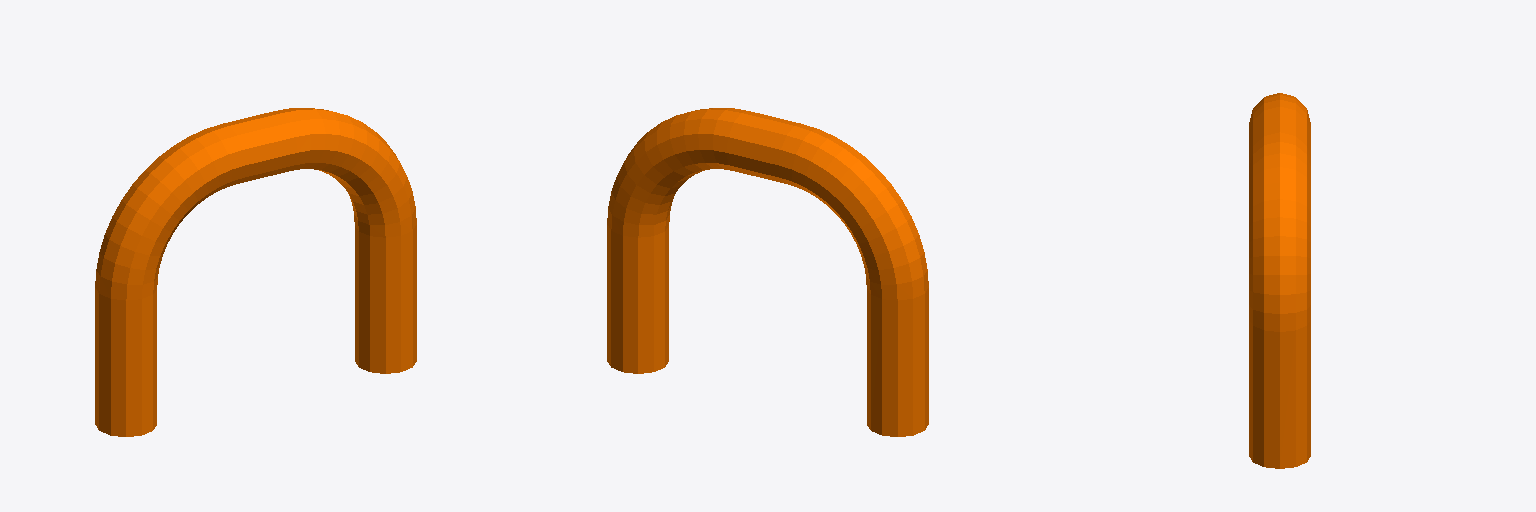
Rendered from gateSmall_teamYellow.obj.
The picture shows the model from 3 angles: view 1: azimuth 30°, elevation 25°; view 2: azimuth 150°, elevation 25°; view 3: azimuth 270°, elevation 25°; orthographic projection.
Visible parts, largest first — view 1: gateSmall_teamYellow_Cube.361; view 2: gateSmall_teamYellow_Cube.361; view 3: gateSmall_teamYellow_Cube.361.
Part boxes in pixels (x1,y1,x2,y2): gateSmall_teamYellow_Cube.361: (95, 108, 416, 436); gateSmall_teamYellow_Cube.361: (607, 108, 928, 436); gateSmall_teamYellow_Cube.361: (1249, 93, 1310, 468).
Size of the model in its own units: 2.4 by 2 by 0.4126.